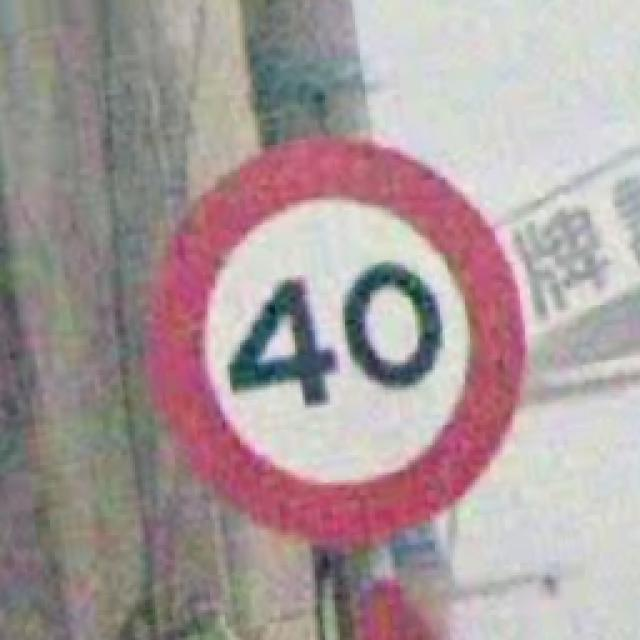Speed Limit -40-: (152, 138, 525, 542)
